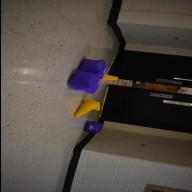cone: (72, 98, 98, 118), (99, 74, 117, 80)
cube: (66, 70, 100, 94), (78, 58, 106, 80), (84, 121, 101, 133)
